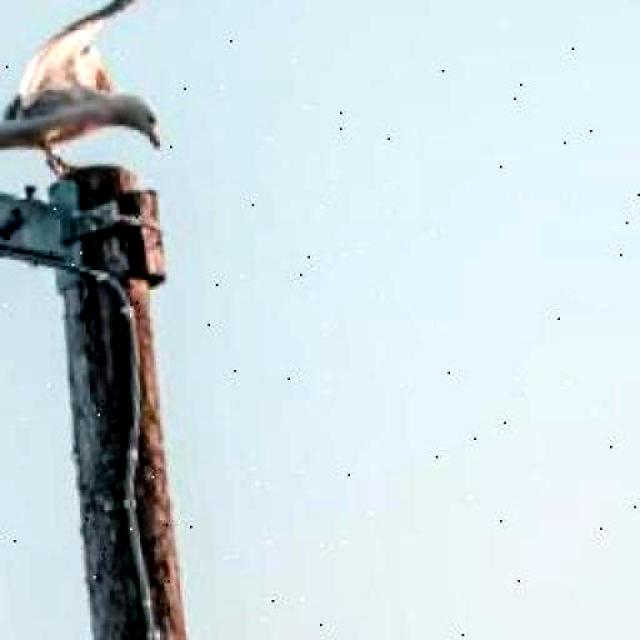airplane: (0, 0, 264, 189)
